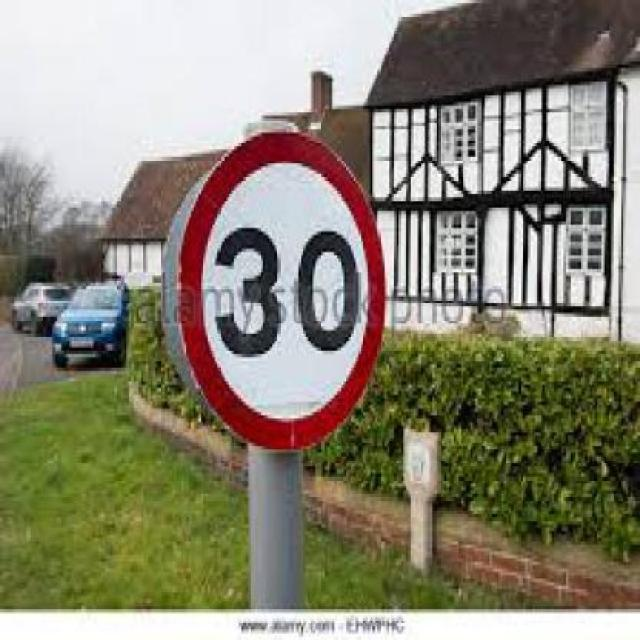forb_speed_over_30: (186, 136, 385, 450)
